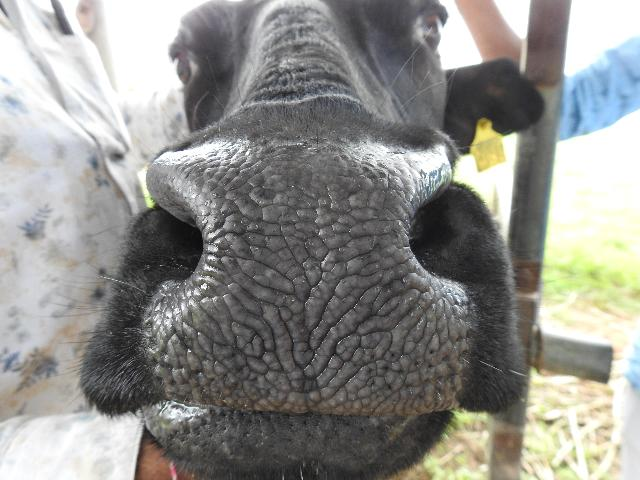Muzzle: (189, 158, 441, 410)
